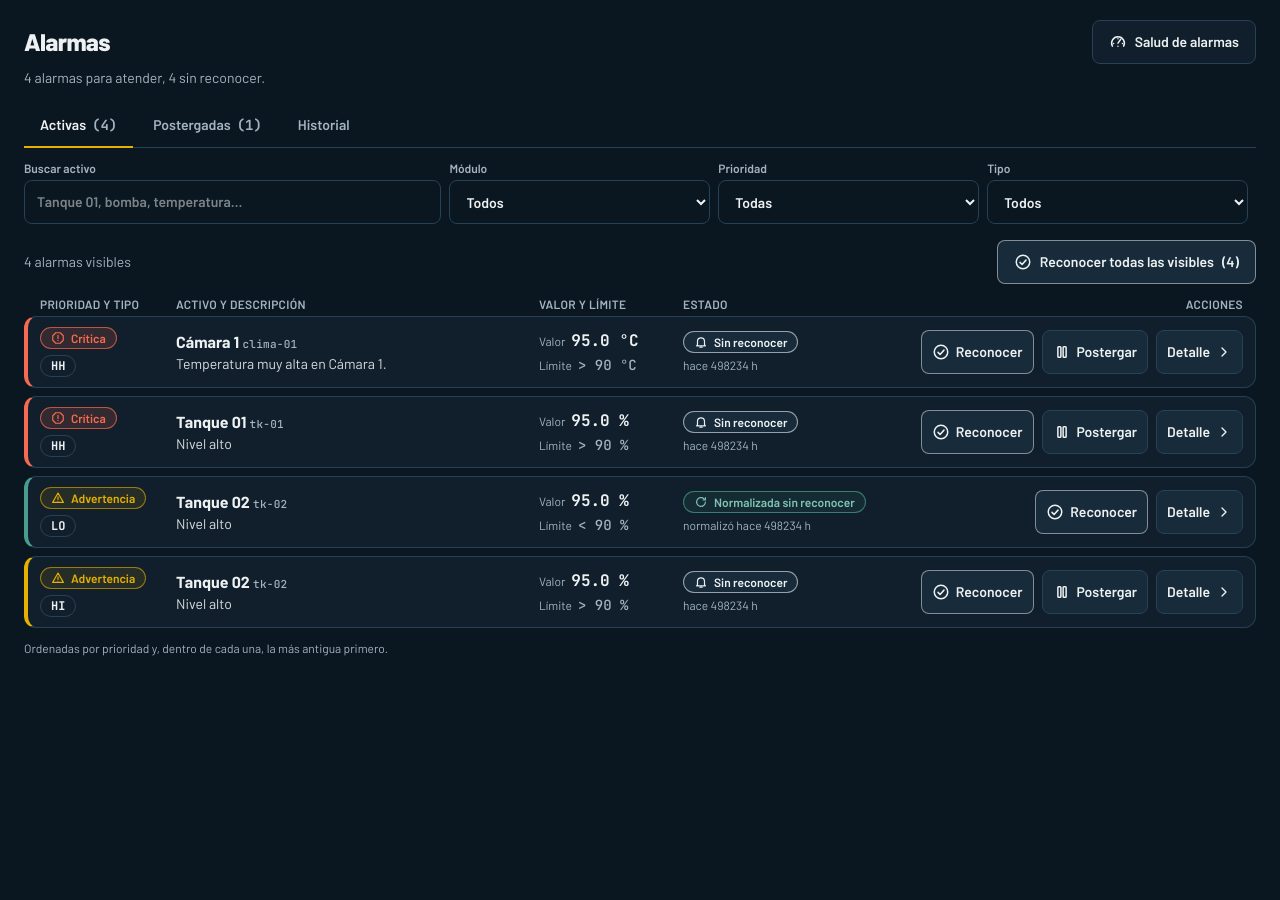
Scenario: Lista de alarmas: contenido › Postergadas: pestaña propia con su vencimiento y «Reactivar» (no «Reconocer»)
Click the tab with test id "tab-shelved": [208, 126] box 137,104 -> 278,148
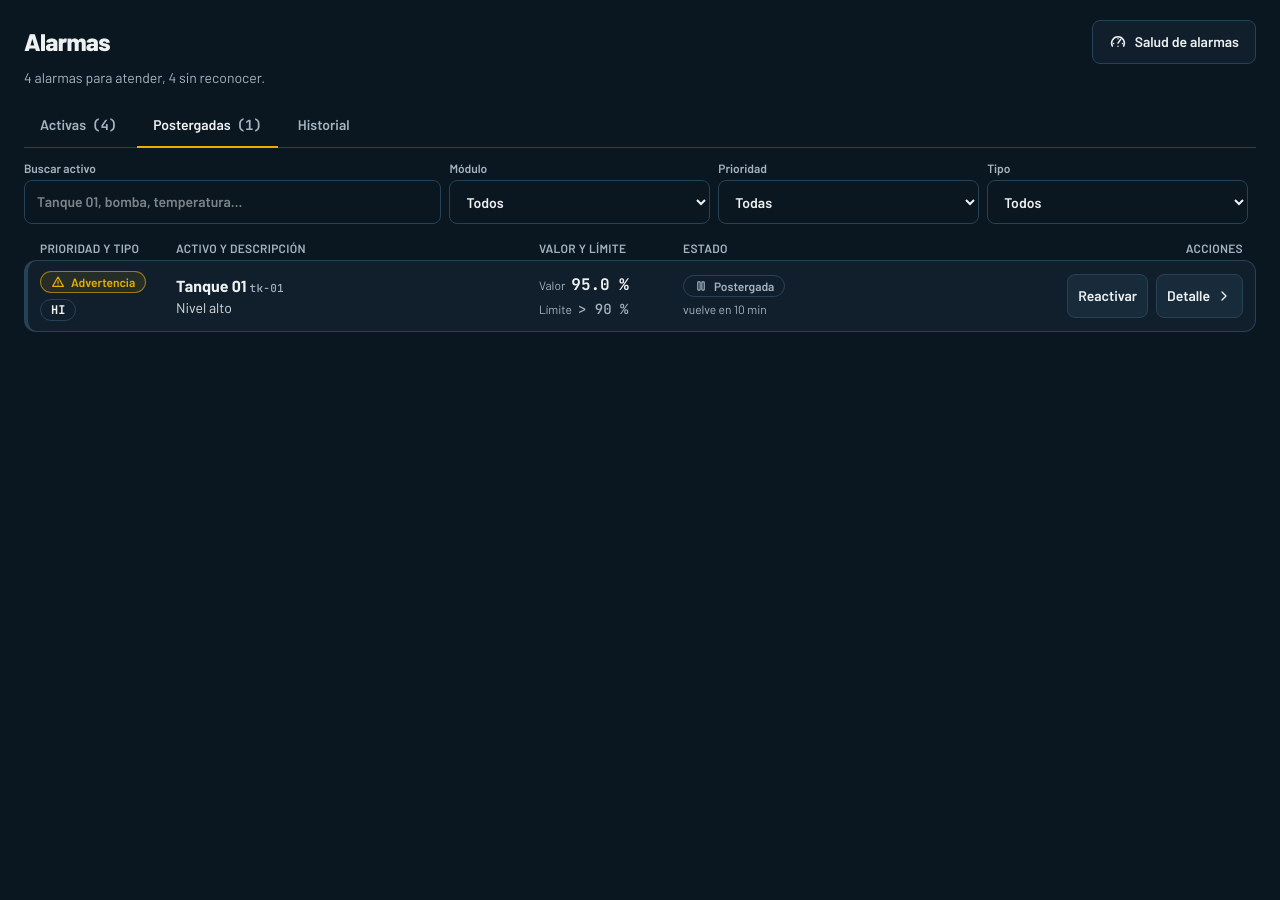
Check: the text with test id "alarm-time" reads "vuelve en 10 min", box 683,302 -> 767,316
Check: the button with test id "unshelve" is shown, box 1067,274 -> 1148,318
Check: the button with test id "ack" is gone
